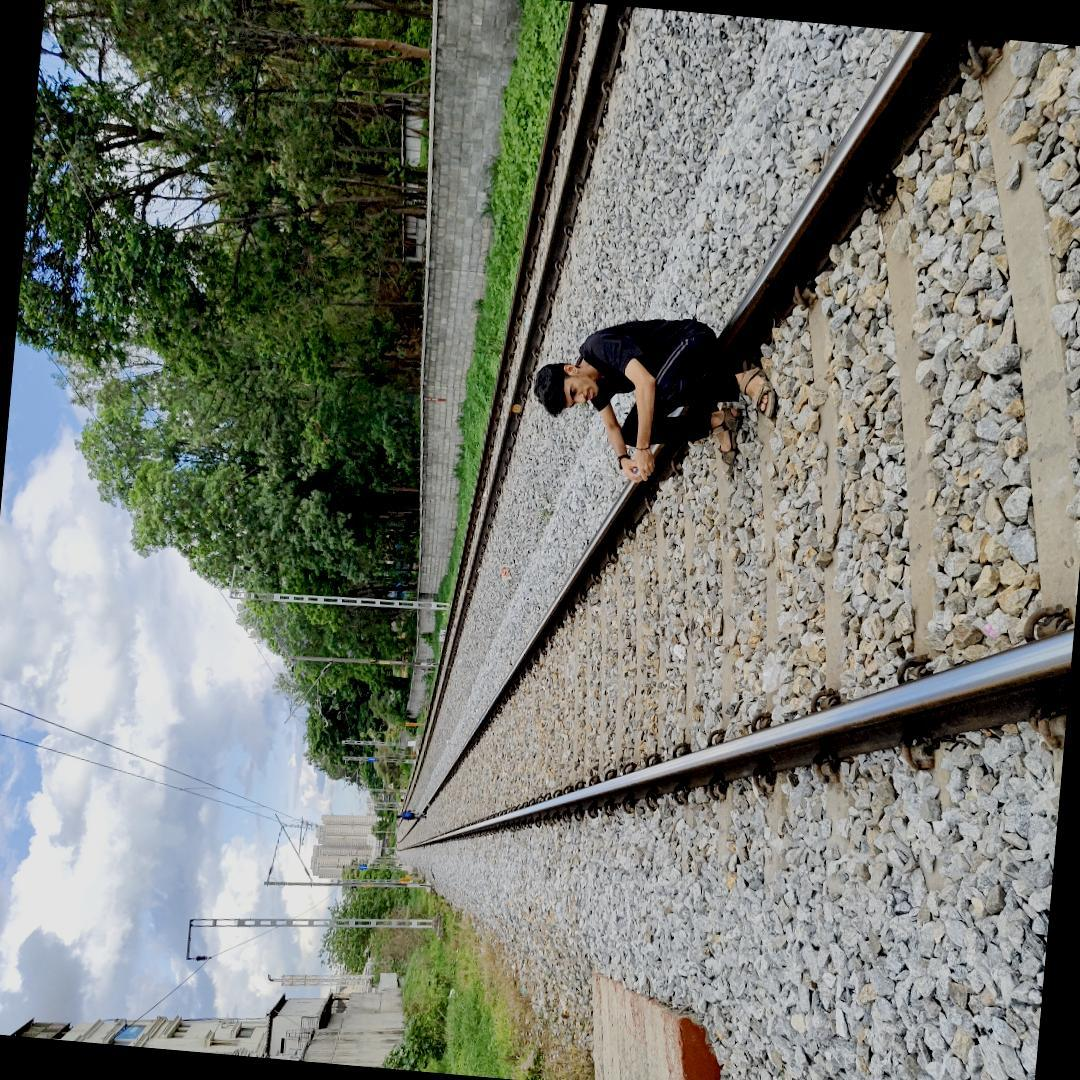sitting: (517, 312, 785, 495)
